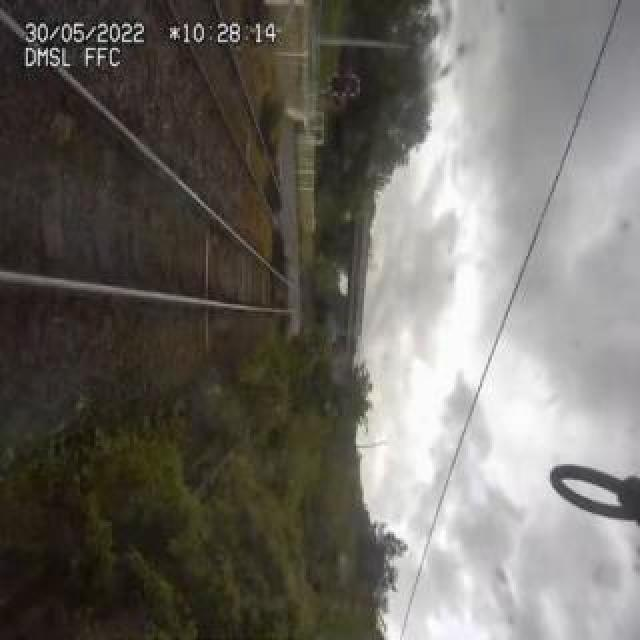Signal-red: (331, 72, 363, 98)
